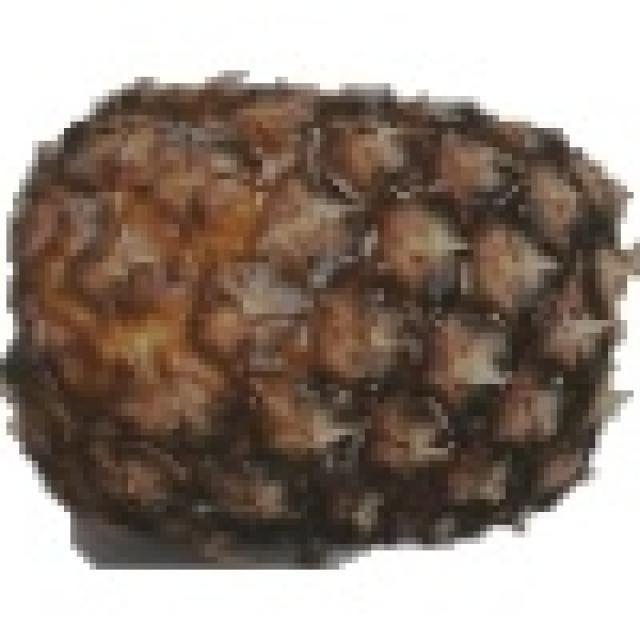pineapple: (26, 70, 634, 550), (147, 518, 198, 538)
